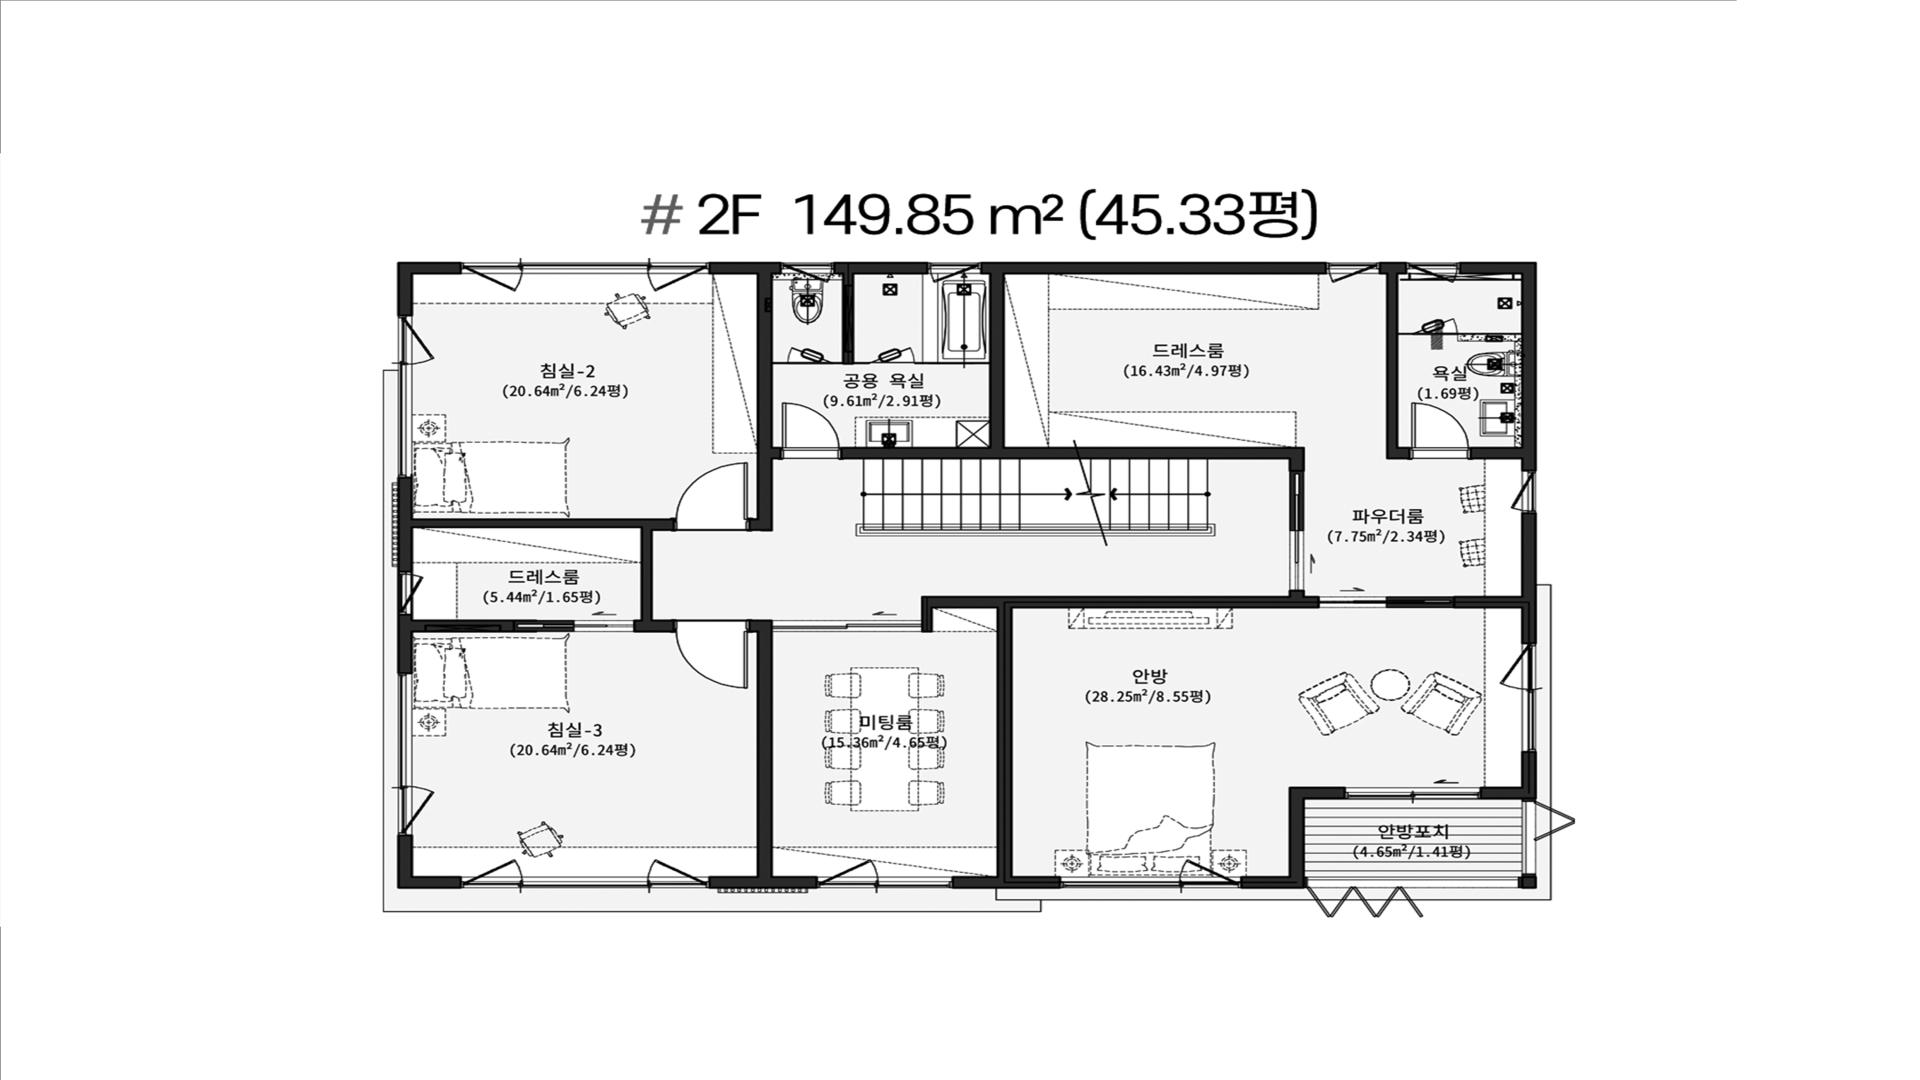door: (670, 462, 753, 530), (671, 620, 752, 690), (1407, 402, 1473, 460), (778, 402, 844, 459), (1288, 471, 1305, 591), (773, 620, 922, 632), (1319, 596, 1455, 608), (513, 620, 633, 633), (1412, 318, 1458, 335), (787, 347, 832, 364), (870, 347, 915, 364)
wall: (844, 447, 1305, 471), (1241, 786, 1345, 889), (932, 591, 1319, 608), (750, 620, 773, 876), (997, 608, 1013, 876), (981, 262, 1327, 274), (1386, 274, 1407, 460), (757, 274, 778, 459), (397, 835, 462, 889), (397, 261, 462, 315), (832, 274, 870, 364), (1520, 261, 1536, 471), (641, 518, 671, 620), (1480, 752, 1538, 799), (989, 274, 1005, 447), (413, 518, 641, 527), (1522, 513, 1538, 644), (397, 477, 413, 572), (413, 618, 513, 633), (952, 876, 1060, 889), (709, 876, 816, 889), (753, 459, 773, 530), (833, 261, 928, 274), (709, 261, 781, 274), (397, 615, 413, 674), (1460, 261, 1520, 274), (1455, 596, 1522, 608), (1473, 447, 1522, 460), (920, 596, 934, 632), (633, 620, 671, 632), (1379, 262, 1406, 274), (915, 361, 989, 364), (1458, 332, 1520, 335), (773, 361, 787, 364), (1398, 332, 1412, 335)
window: (460, 876, 709, 889), (462, 262, 709, 274), (397, 315, 413, 477), (397, 674, 413, 835), (1060, 876, 1241, 889), (816, 876, 952, 889), (1344, 786, 1480, 799), (1522, 644, 1538, 752), (397, 572, 425, 615), (1510, 471, 1538, 513), (1406, 262, 1460, 284), (1327, 262, 1379, 284), (781, 261, 833, 282), (928, 262, 981, 282)
